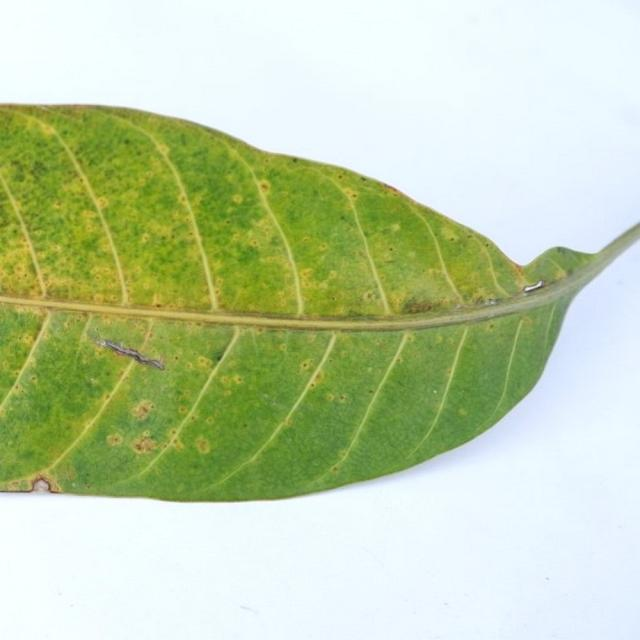Mango: (0, 106, 598, 500)
Powdery_Mildew: (126, 389, 158, 428), (20, 156, 53, 182), (133, 435, 158, 453), (404, 300, 438, 313), (81, 210, 101, 226), (219, 374, 240, 387), (194, 437, 210, 453), (106, 433, 124, 446), (6, 480, 25, 491), (299, 359, 314, 372), (383, 183, 400, 194), (197, 356, 212, 368), (343, 188, 358, 200), (299, 268, 314, 280), (95, 197, 108, 209), (258, 180, 271, 192), (157, 143, 170, 155), (520, 317, 534, 327), (178, 391, 192, 401), (313, 372, 324, 384), (22, 334, 34, 345), (231, 194, 244, 204), (388, 223, 401, 233), (364, 291, 377, 301), (140, 233, 151, 244), (152, 293, 161, 306), (382, 257, 398, 264), (170, 438, 181, 448), (338, 449, 349, 459), (93, 294, 105, 303), (248, 239, 260, 248), (283, 417, 293, 427), (325, 393, 336, 402), (327, 271, 338, 280), (404, 334, 415, 343), (317, 243, 328, 252), (433, 334, 443, 343), (179, 406, 189, 415), (185, 362, 196, 370), (278, 343, 287, 352), (458, 408, 468, 416), (205, 417, 215, 425), (338, 394, 347, 402), (135, 442, 143, 451), (103, 392, 111, 400), (180, 196, 187, 203), (331, 466, 339, 472), (30, 376, 37, 382), (171, 429, 177, 436), (339, 214, 346, 220), (360, 176, 367, 181), (291, 158, 298, 163), (395, 358, 401, 363), (449, 237, 455, 242), (489, 323, 494, 329), (467, 235, 474, 239), (338, 174, 343, 179), (310, 383, 315, 388), (368, 389, 374, 393), (388, 247, 393, 251), (485, 243, 490, 247), (174, 356, 179, 360), (243, 422, 247, 427)
